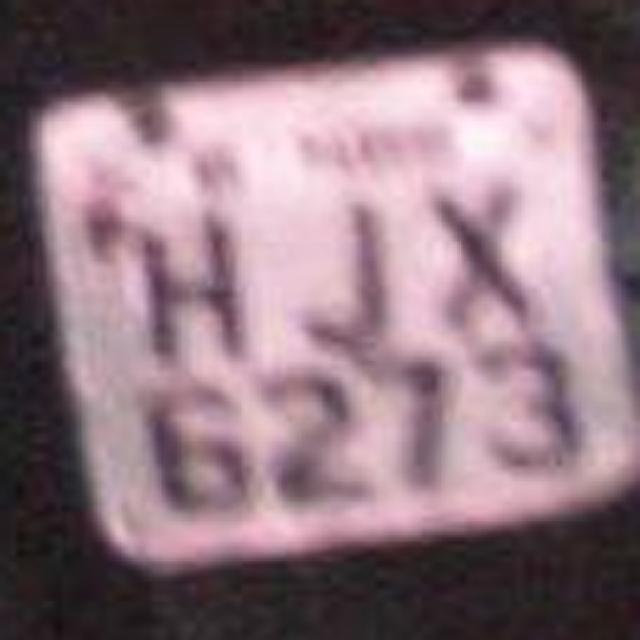1: (344, 340, 468, 495)
2: (236, 349, 384, 516)
3: (436, 324, 596, 488)
6: (124, 356, 268, 529)
H: (120, 189, 265, 376)
J: (280, 180, 412, 355)
